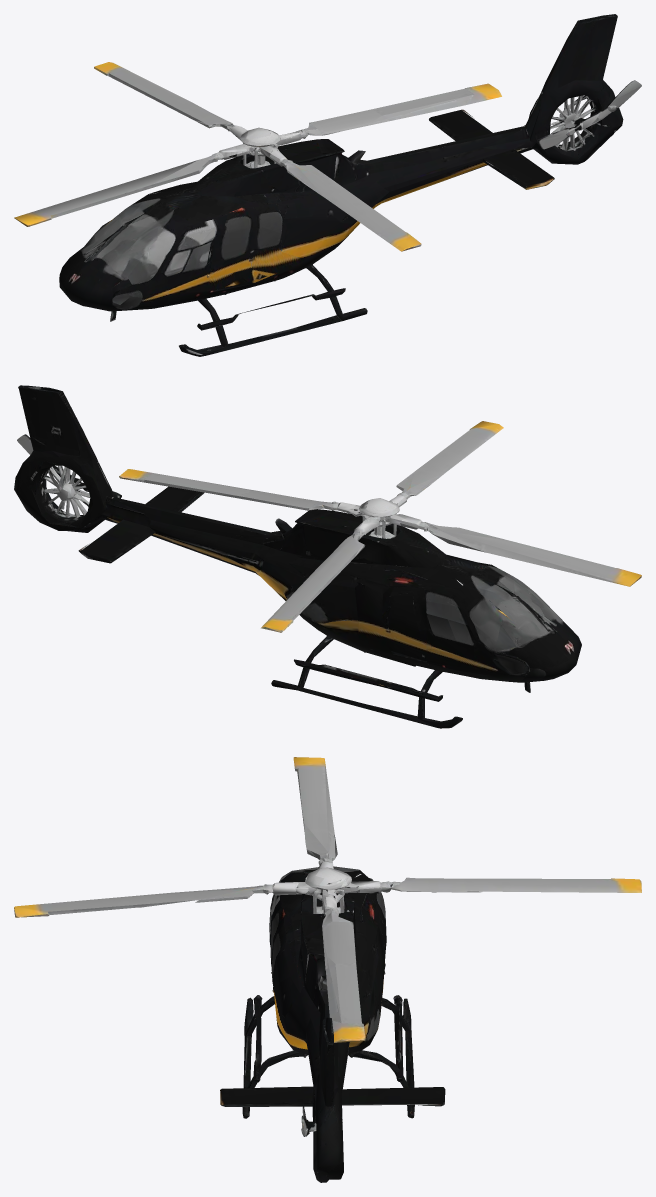
The model's file is helicopter-v1.glb.
The picture shows the model from 3 angles, top to bottom: view 1: azimuth 30°, elevation 25°; view 2: azimuth 150°, elevation 25°; view 3: azimuth 270°, elevation 25°; orthographic projection. The views are drawn at different scales.
Bounding box in the file's own units: 9.2 × 2.98 × 6.84.
1 material, 1 textured.
